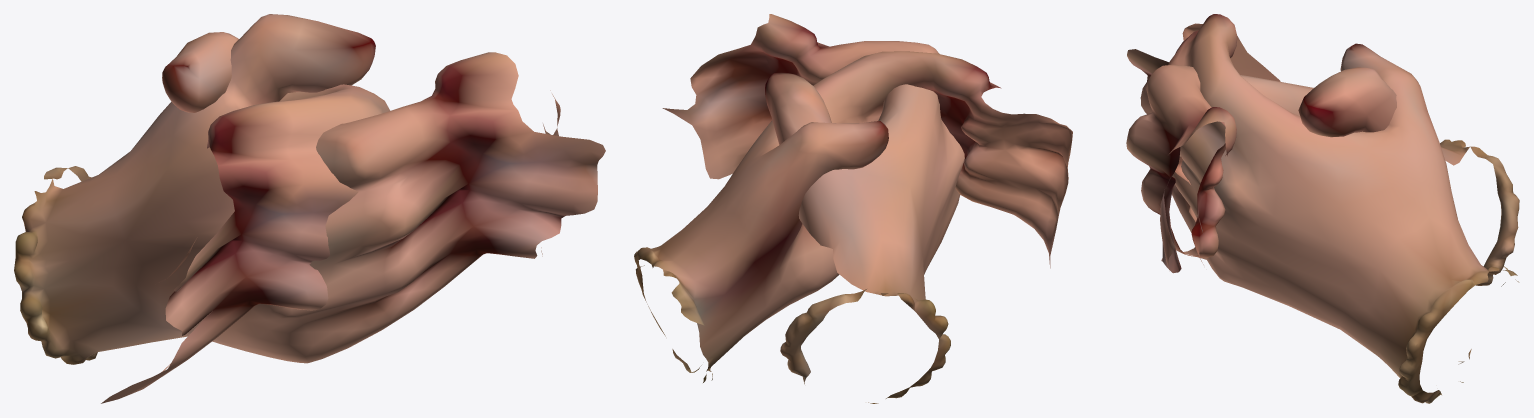
File: esterex-maos.glb
3 views of the same model, side by side, from view 1: azimuth 30°, elevation 25°; view 2: azimuth 150°, elevation 25°; view 3: azimuth 270°, elevation 25° (orthographic). The views are drawn at different scales.
Parts seen in each view (by area): view 1: Dir, Esq; view 2: Esq, Dir; view 3: Esq, Dir.
Part boxes in pixels (x1,y1,x2,y2): Dir: (14, 14, 605, 364); Esq: (101, 32, 390, 403); Esq: (634, 51, 1072, 382); Dir: (662, 14, 964, 403); Esq: (1127, 14, 1519, 403); Dir: (1126, 64, 1519, 285).
Bounding box in the file's own units: 0.1874 × 0.1312 × 0.1571.
